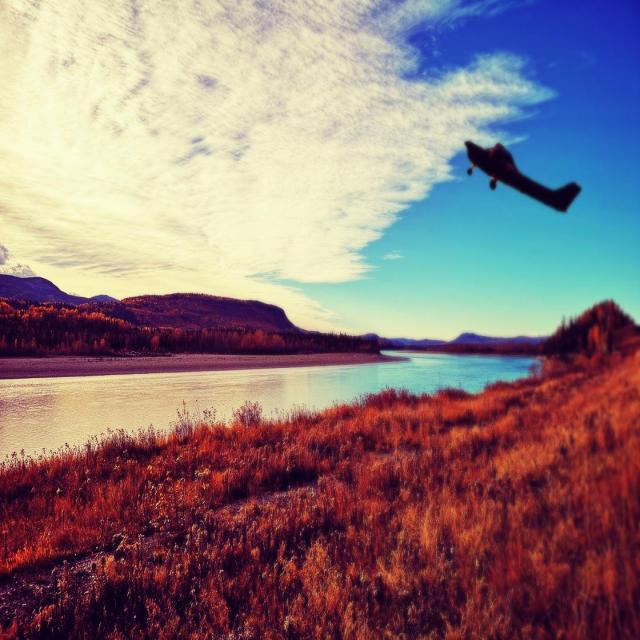airplane: (463, 138, 581, 212)
